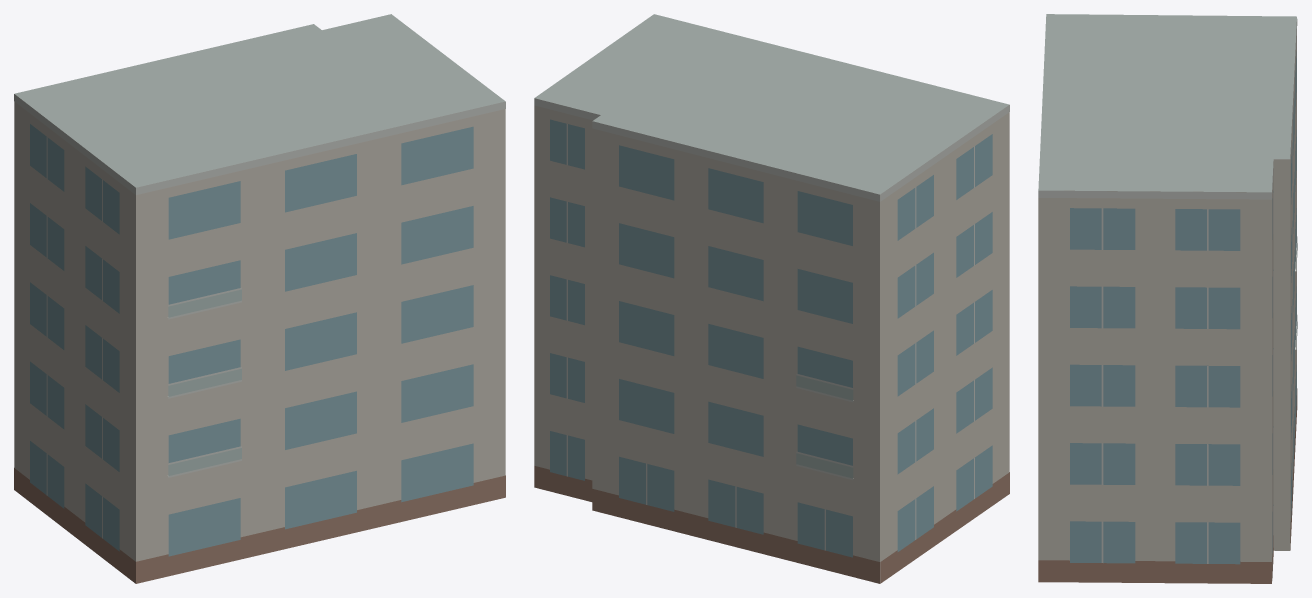
File: survey-upis-32662767.glb
The picture shows the model from 3 angles, left to right: view 1: azimuth 30°, elevation 25°; view 2: azimuth 150°, elevation 25°; view 3: azimuth 270°, elevation 25°; orthographic projection.
Visible parts, largest first — view 1: survey-upis-32662767.tmp; view 2: survey-upis-32662767.tmp; view 3: survey-upis-32662767.tmp.
Part boxes in pixels (x1=…): survey-upis-32662767.tmp: x1=14, y1=14, x2=505, y2=583; survey-upis-32662767.tmp: x1=534, y1=14, x2=1009, y2=583; survey-upis-32662767.tmp: x1=1038, y1=14, x2=1297, y2=583.
Bounding box in the file's own units: 12.71 × 13 × 7.81.
